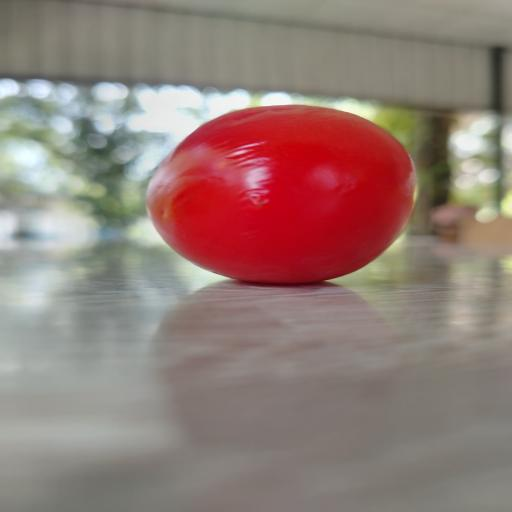spoiled: (148, 105, 416, 283)
